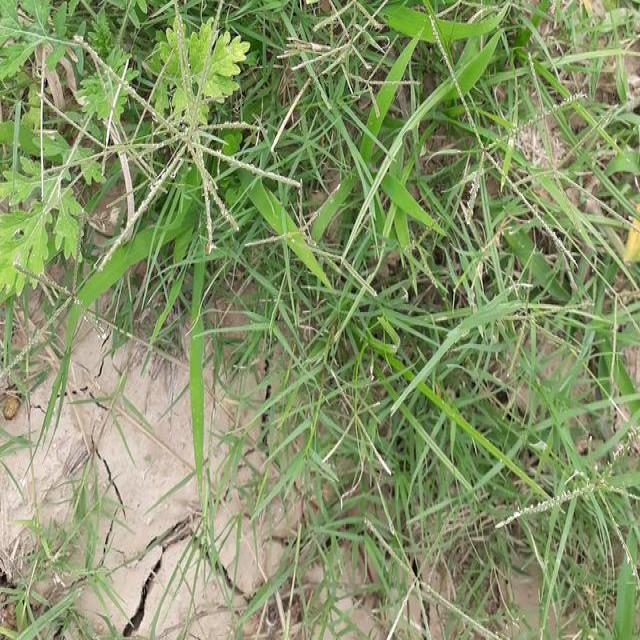weed: (249, 4, 640, 639)
